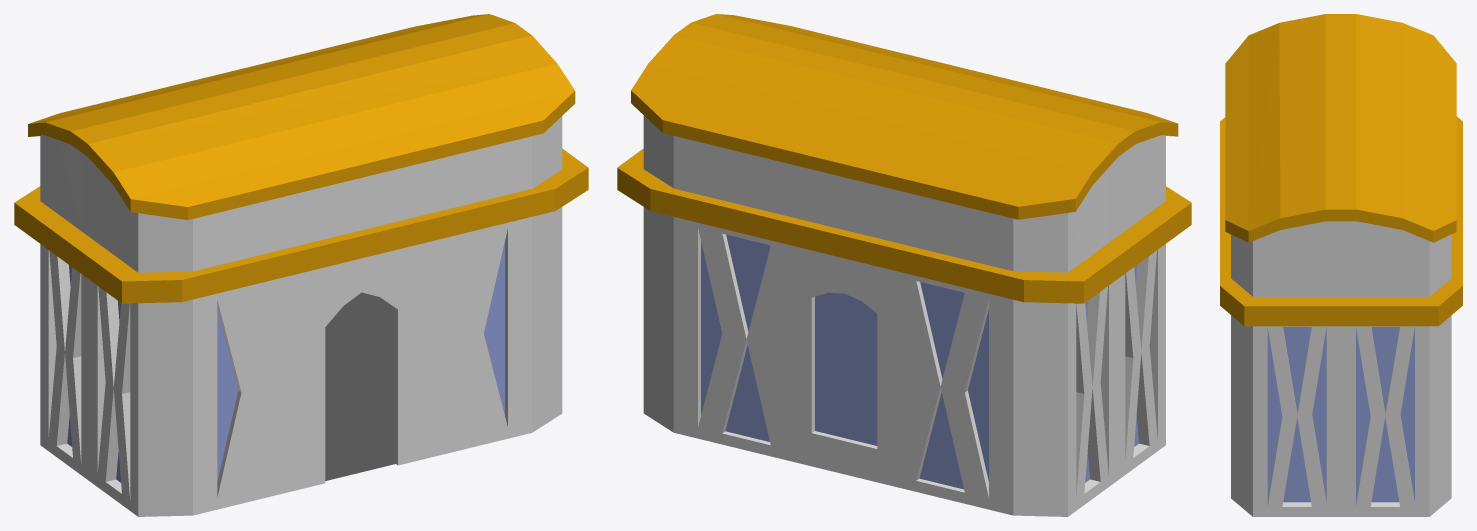
File: AetherpunkBuilding03.fbx
3 views of the same model, side by side, from view 1: azimuth 30°, elevation 25°; view 2: azimuth 150°, elevation 25°; view 3: azimuth 270°, elevation 25° (orthographic). The views are drawn at different scales.
Visible parts, largest first — view 1: Building03; view 2: Building03; view 3: Building03.
Part boxes in pixels (<box>): Building03: <box>14,14,588,516</box>; Building03: <box>617,14,1191,516</box>; Building03: <box>1220,14,1462,516</box>.
Size of the model in its own units: 440 by 312 by 220.
